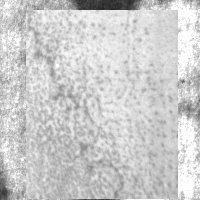patches: (73, 1, 134, 77), (67, 121, 128, 168), (79, 170, 124, 198)
pitted_surface: (26, 10, 178, 199)
